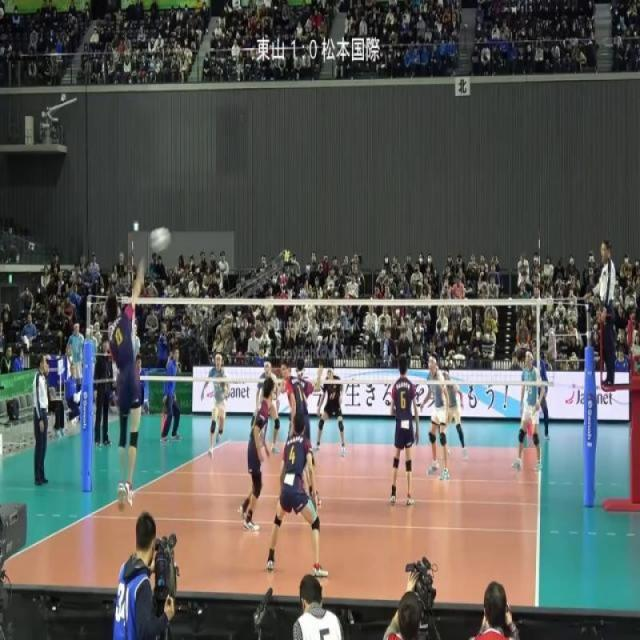volleyball: (149, 226, 172, 253)
